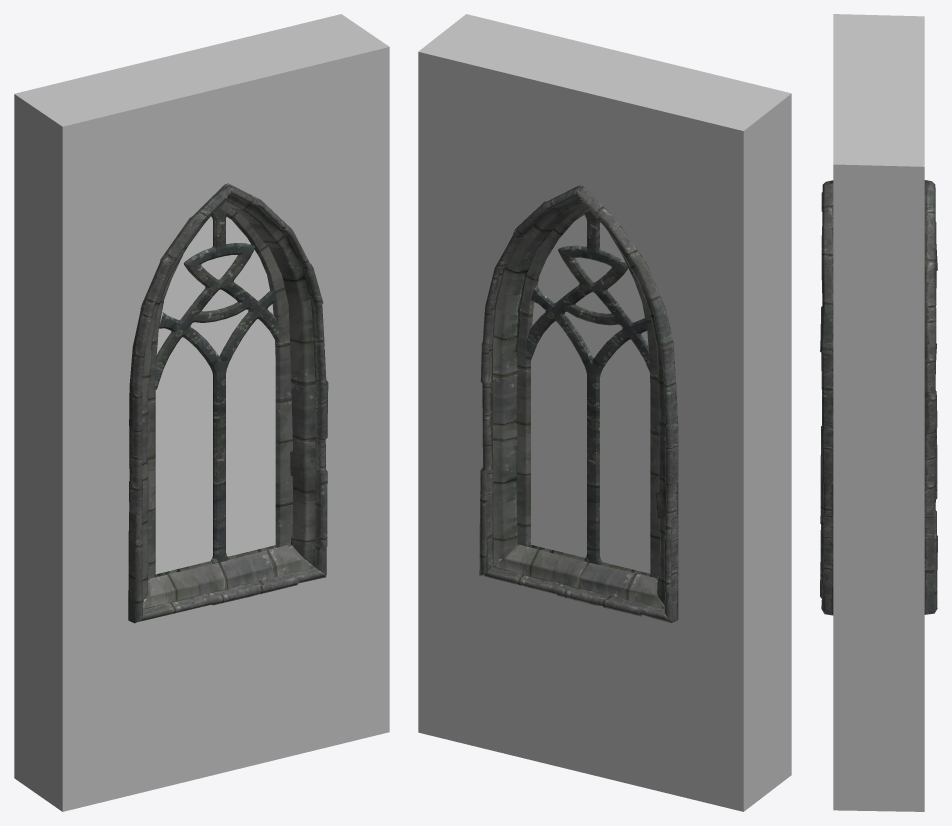
3 views of the same model, side by side, from view 1: azimuth 30°, elevation 25°; view 2: azimuth 150°, elevation 25°; view 3: azimuth 270°, elevation 25° (orthographic). The views are drawn at different scales.
Visible parts, largest first — view 1: SM_BB_T3_Extended_Wall_Windowframe_Narrow_10_LOD0; view 2: SM_BB_T3_Extended_Wall_Windowframe_Narrow_10_LOD0; view 3: SM_BB_T3_Extended_Wall_Windowframe_Narrow_10_LOD0.
Part boxes in pixels (x1,y1,x2,y2): SM_BB_T3_Extended_Wall_Windowframe_Narrow_10_LOD0: [14, 14, 389, 811]; SM_BB_T3_Extended_Wall_Windowframe_Narrow_10_LOD0: [418, 14, 791, 811]; SM_BB_T3_Extended_Wall_Windowframe_Narrow_10_LOD0: [820, 14, 937, 811].
Size of the model in its own units: 1.5 by 3.01 by 0.4969.
